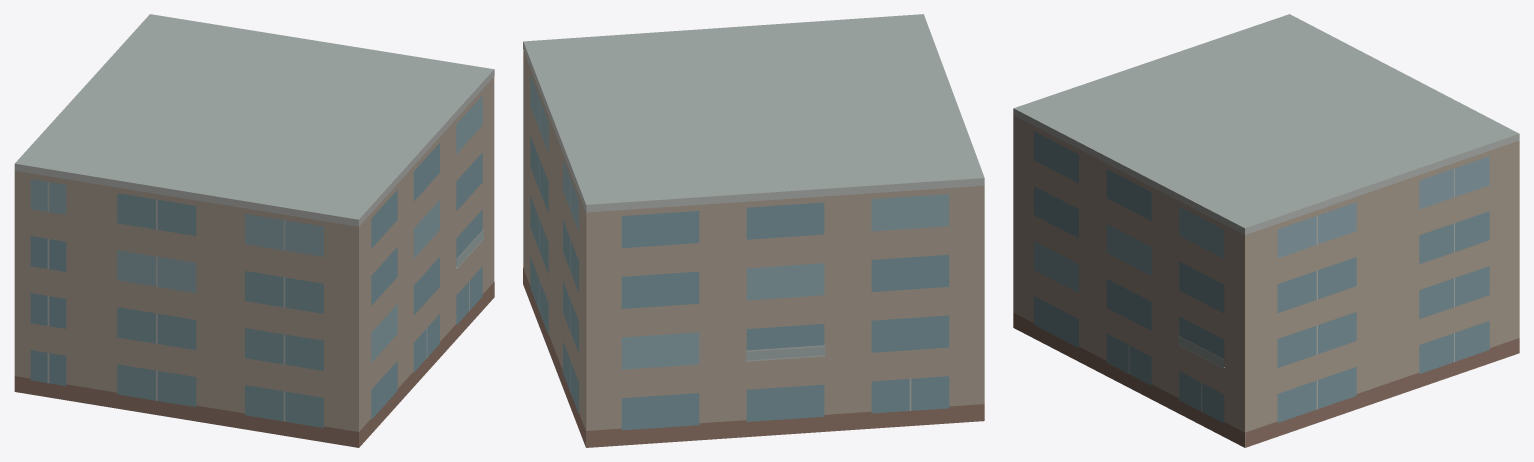
Rendered from survey-upis-32957476.glb.
The picture shows the model from 3 angles, left to right: view 1: azimuth 30°, elevation 25°; view 2: azimuth 150°, elevation 25°; view 3: azimuth 270°, elevation 25°; orthographic projection. The views are drawn at different scales.
Visible parts, largest first — view 1: survey-upis-32957476.tmp; view 2: survey-upis-32957476.tmp; view 3: survey-upis-32957476.tmp.
Part boxes in pixels (x1,y1,x2,y2): survey-upis-32957476.tmp: (14,14,494,447); survey-upis-32957476.tmp: (523,14,984,447); survey-upis-32957476.tmp: (1013,14,1519,447).
Size of the model in its own units: 16.45 by 7.85 by 16.41.
